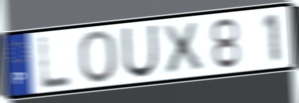1: (262, 13, 284, 64)
8: (209, 17, 242, 70)
L: (37, 34, 74, 91)
O: (76, 28, 119, 85)
U: (120, 23, 159, 80)
X: (158, 20, 206, 76)
